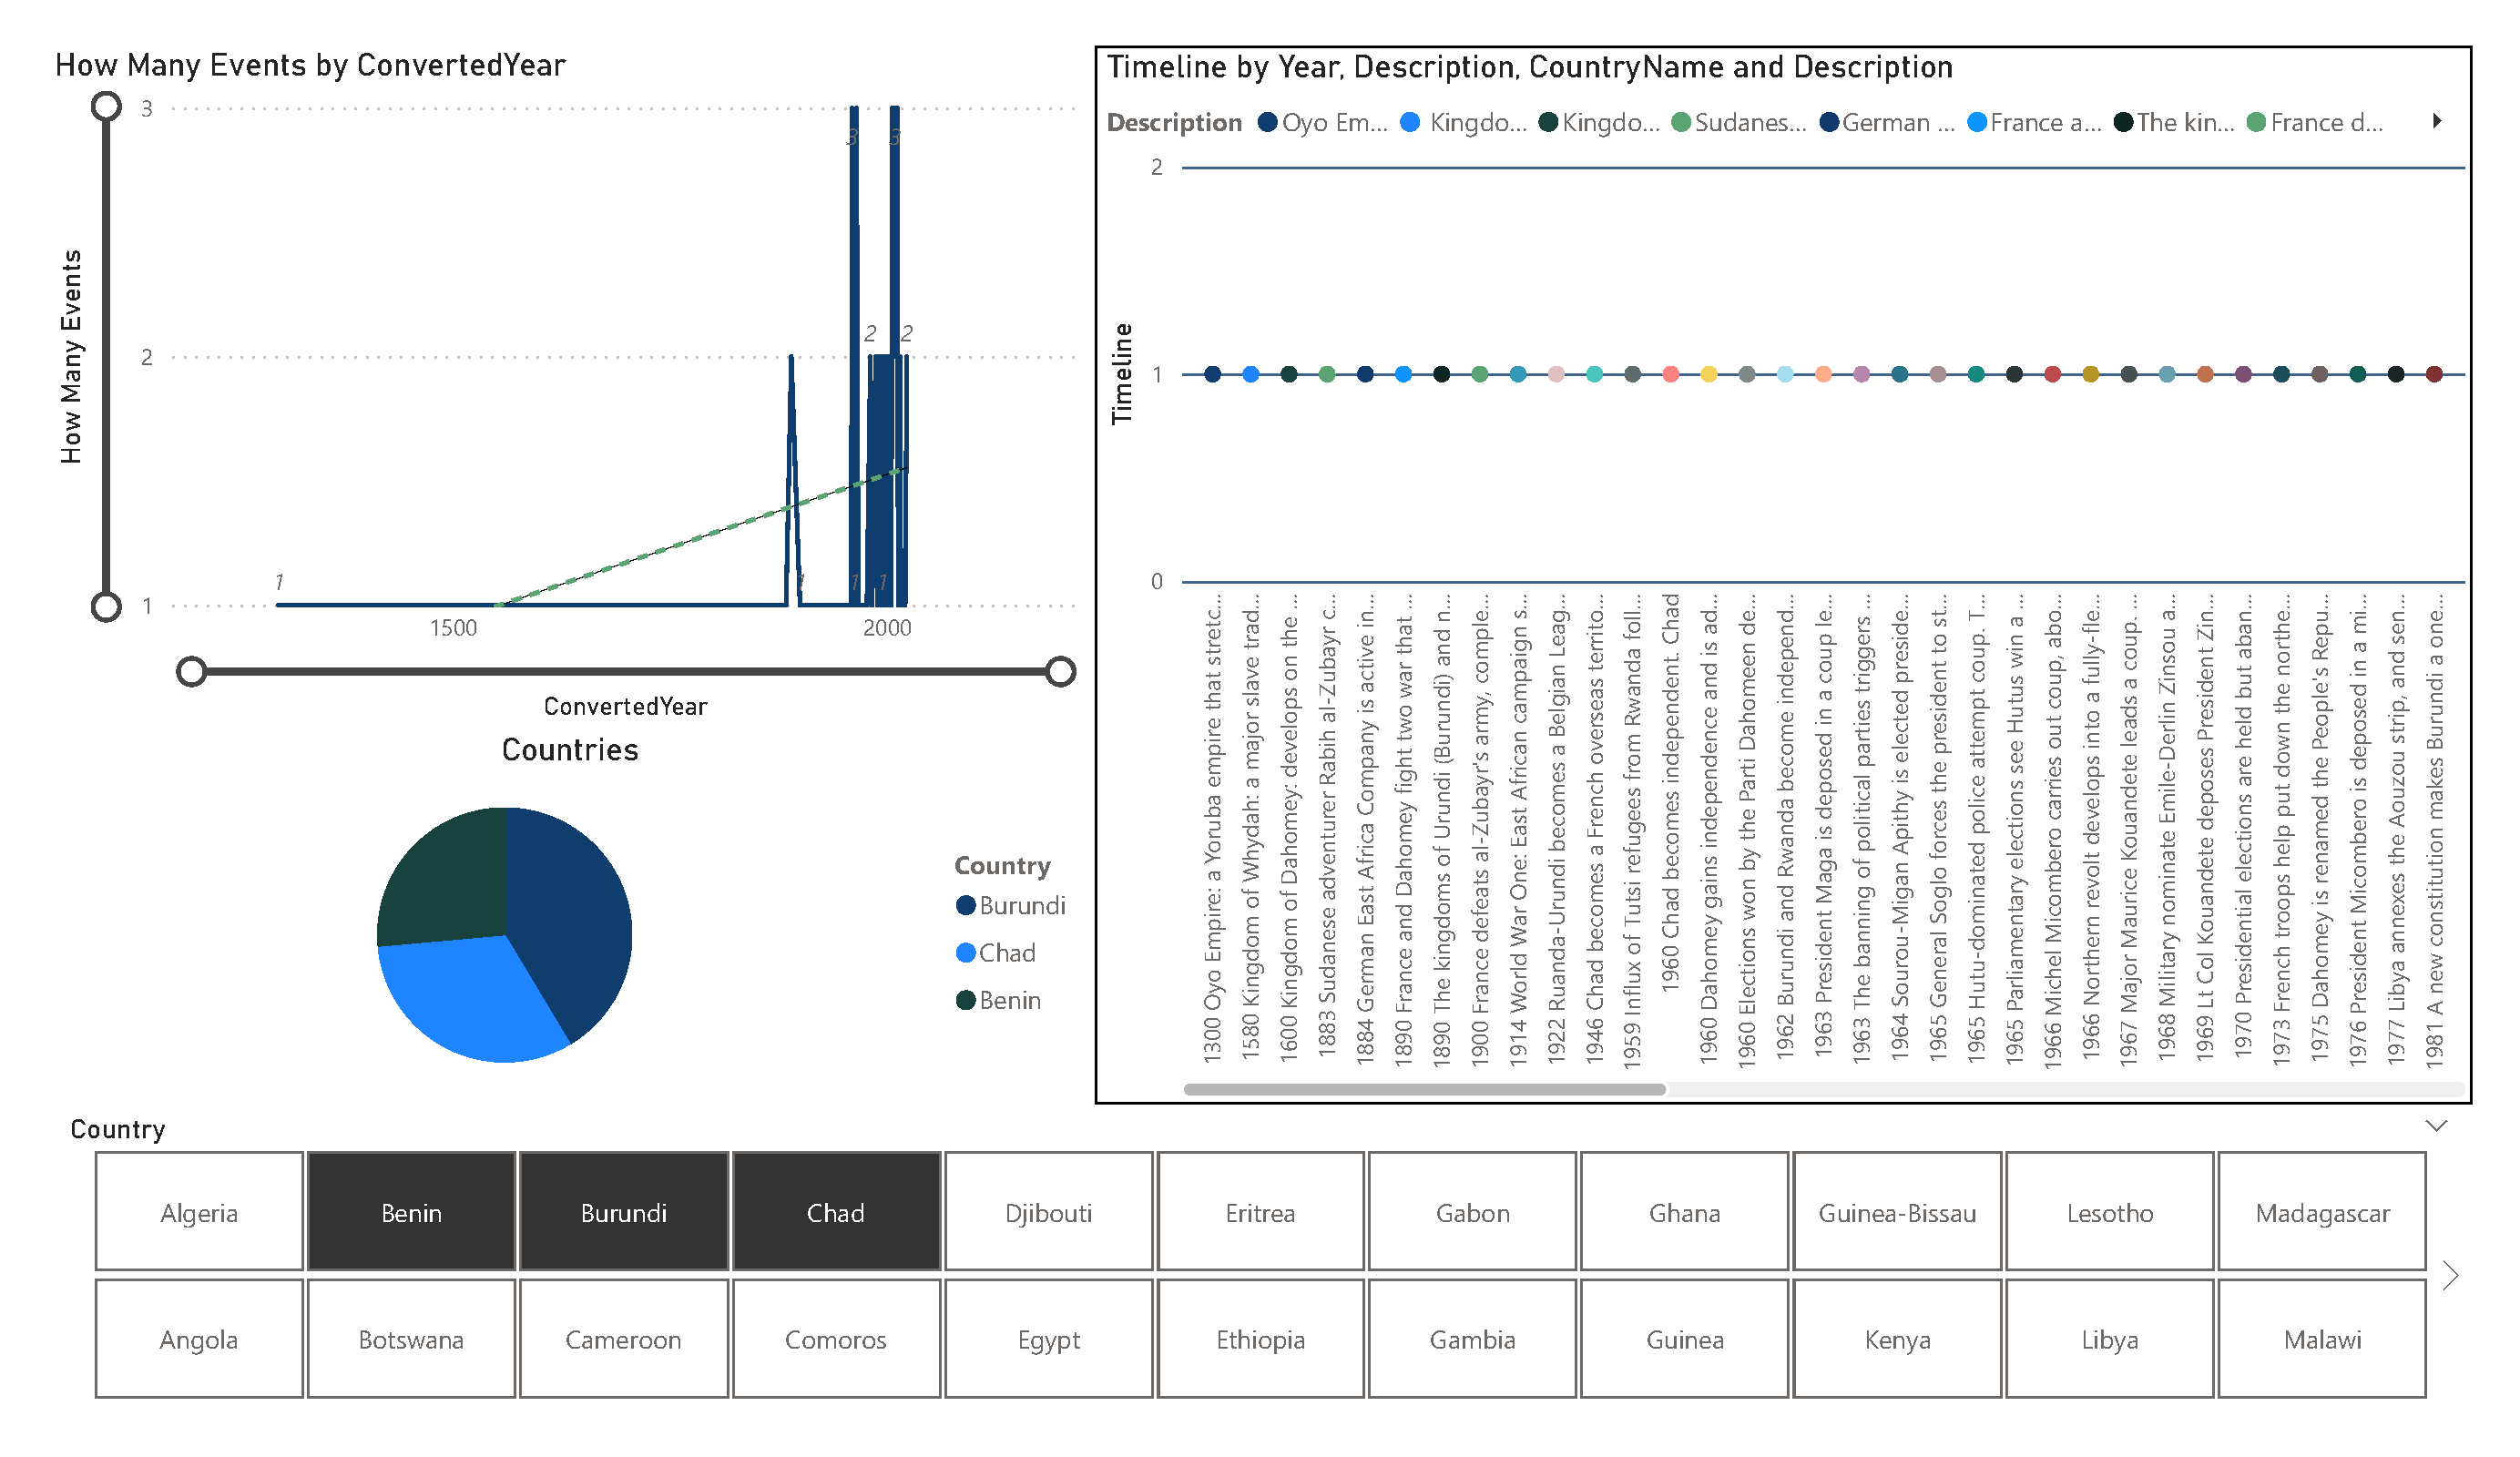

What the dashboard file says about the page in this screenshot:
{"tool":"powerbi","page":{"name":"Page 1","canvas":[1280,720],"ordinal":1},"visuals":[{"type":"lineChart","fields":{"Category":["Timeline.Custom"],"Y":["Timeline.EventID"]},"box":[0,0,553.1,360.8],"z":0},{"type":"slicer","fields":{"Values":["Timeline.CountryName"]},"box":[0,557.9,1279.5,162.1],"z":1000},{"type":"pieChart","title":"Countries","fields":{"Category":["Timeline.CountryName"],"Y":["Timeline.EventDescription"]},"box":[0,360.8,553.1,197.1],"z":2000},{"type":"lineChart","fields":{"Category":["Timeline.ConvertedYear","Timeline.EventDescription","Timeline.CountryName"],"Y":["Timeline.EventID"],"Series":["Timeline.EventDescription"]},"box":[553.1,0,726.4,557.9],"z":3000}]}

Visuals, with their boxes on the page's 1280x720 design canvas (x1, y1, x2, y2). These are canvas units, not pixel positions in the 2520x1457 screenshot, which may show the page scaled, cropped or inside an application window:
lineChart - Timeline.Custom x Timeline.EventID: [left=0, top=0, right=553, bottom=361]
slicer - Timeline.CountryName: [left=0, top=558, right=1280, bottom=720]
"Countries" pieChart: [left=0, top=361, right=553, bottom=558]
lineChart - Timeline.ConvertedYear x Timeline.EventDescription: [left=553, top=0, right=1280, bottom=558]
